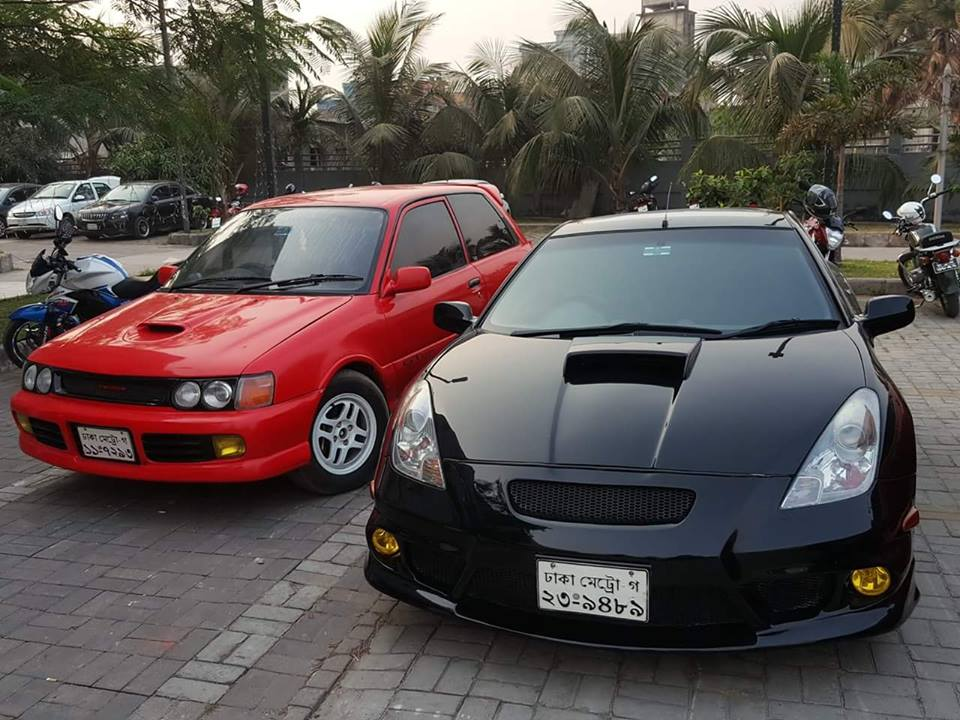registration_plate: (534, 557, 650, 623), (76, 426, 135, 462)
